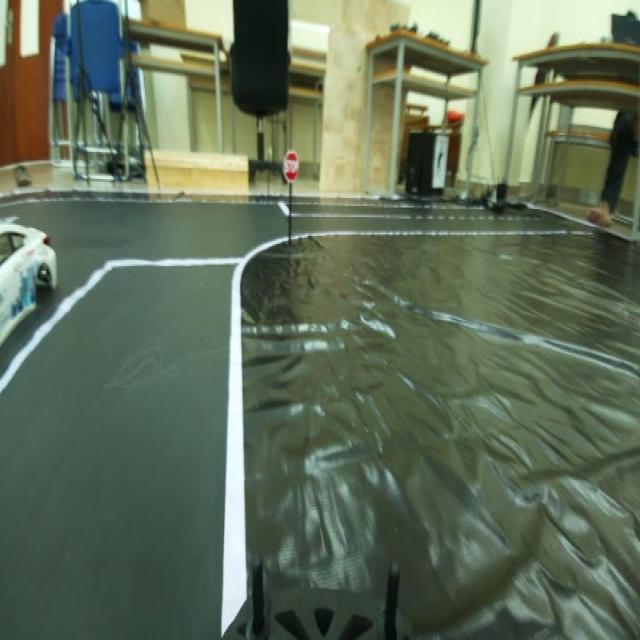stop: (277, 144, 303, 192)
